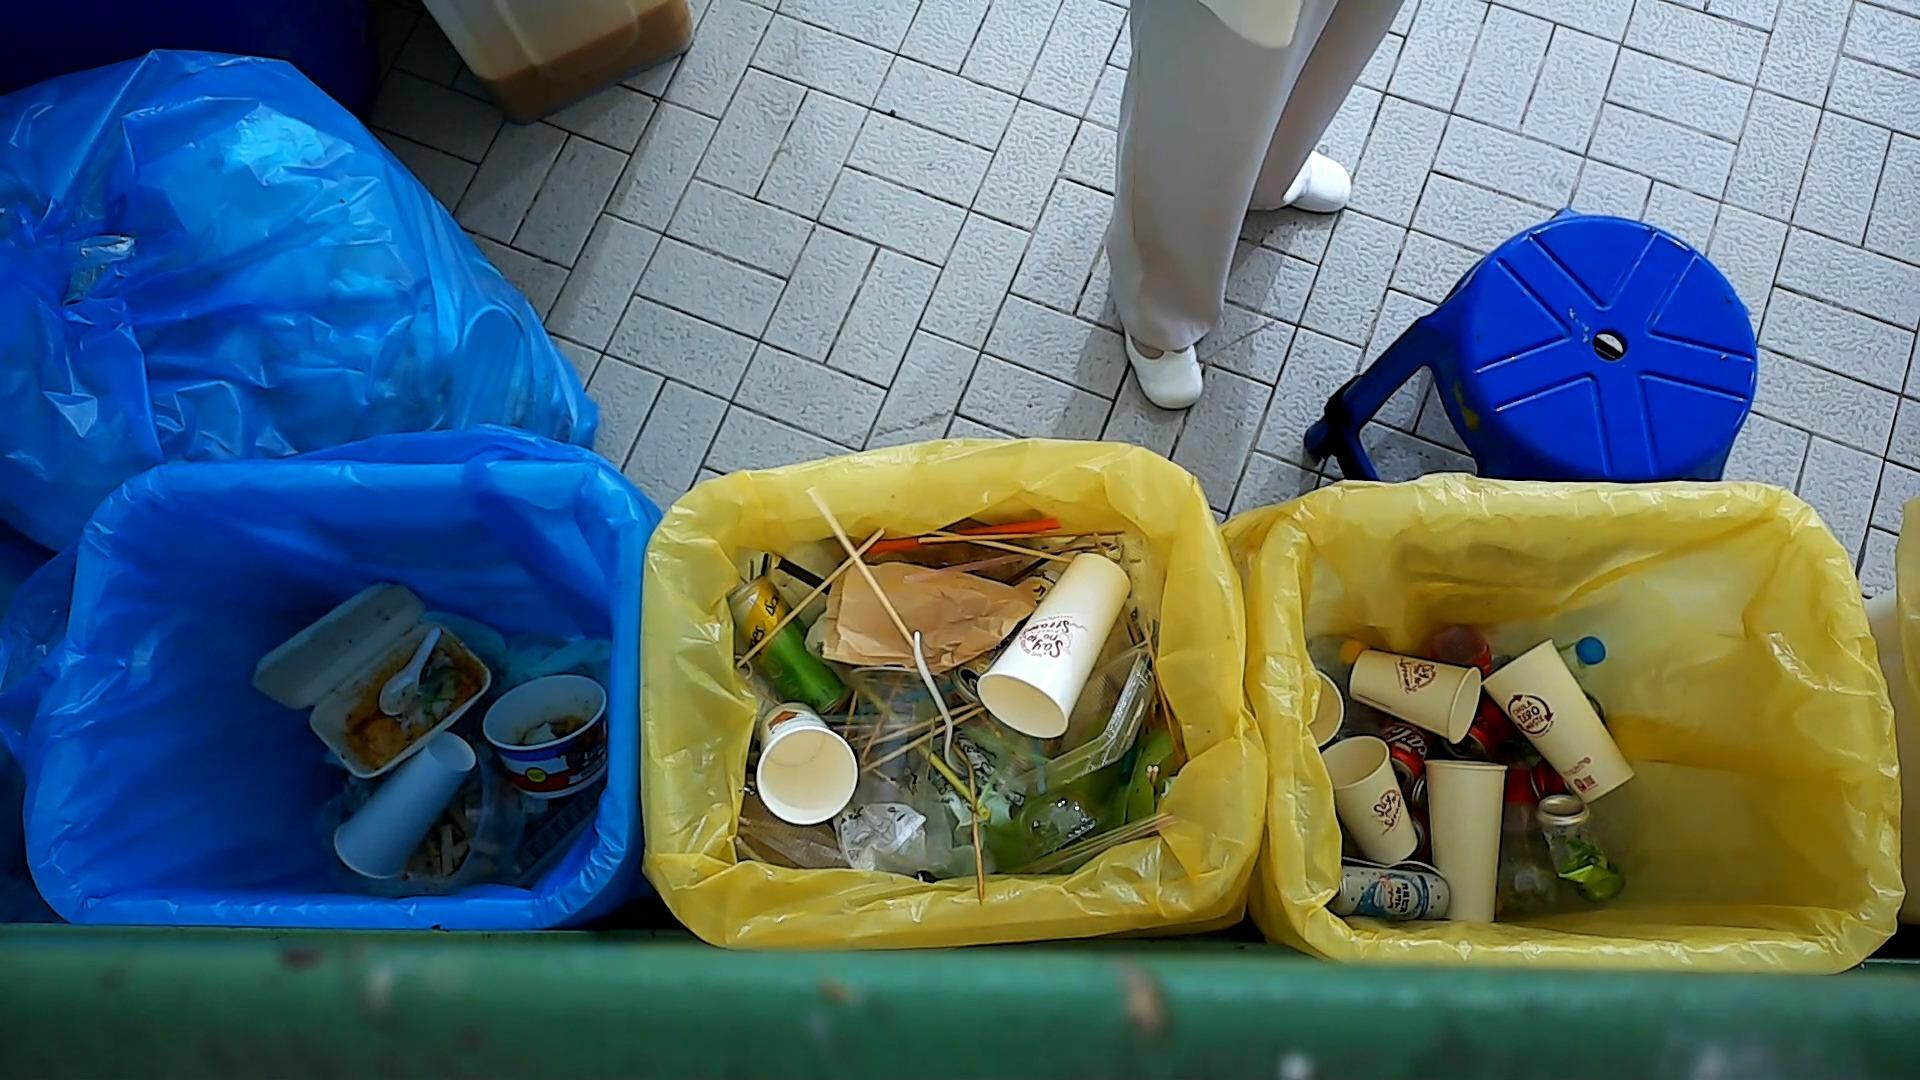can: (723, 572, 861, 724), (1532, 791, 1630, 909), (1321, 860, 1456, 923)
dirty food container: (252, 576, 492, 781), (479, 669, 616, 807)
food container: (993, 634, 1160, 800)
paper bag: (823, 556, 1036, 667)
plastic bag: (839, 778, 978, 885)
plastic cup: (844, 661, 953, 823)
plastic cutlery: (907, 629, 975, 781), (376, 625, 444, 720), (1341, 856, 1448, 882)
sticks: (729, 527, 889, 673), (800, 481, 916, 650), (855, 705, 998, 774), (923, 525, 1072, 567), (866, 698, 985, 749), (1135, 615, 1178, 752), (915, 525, 1131, 547), (963, 746, 988, 909)
straw: (857, 683, 993, 823), (897, 550, 1036, 592)
zero waste cup: (976, 550, 1133, 740), (1477, 634, 1639, 810), (330, 727, 480, 884), (1423, 757, 1510, 924), (753, 702, 864, 829), (1345, 646, 1484, 746), (1320, 727, 1414, 860)
